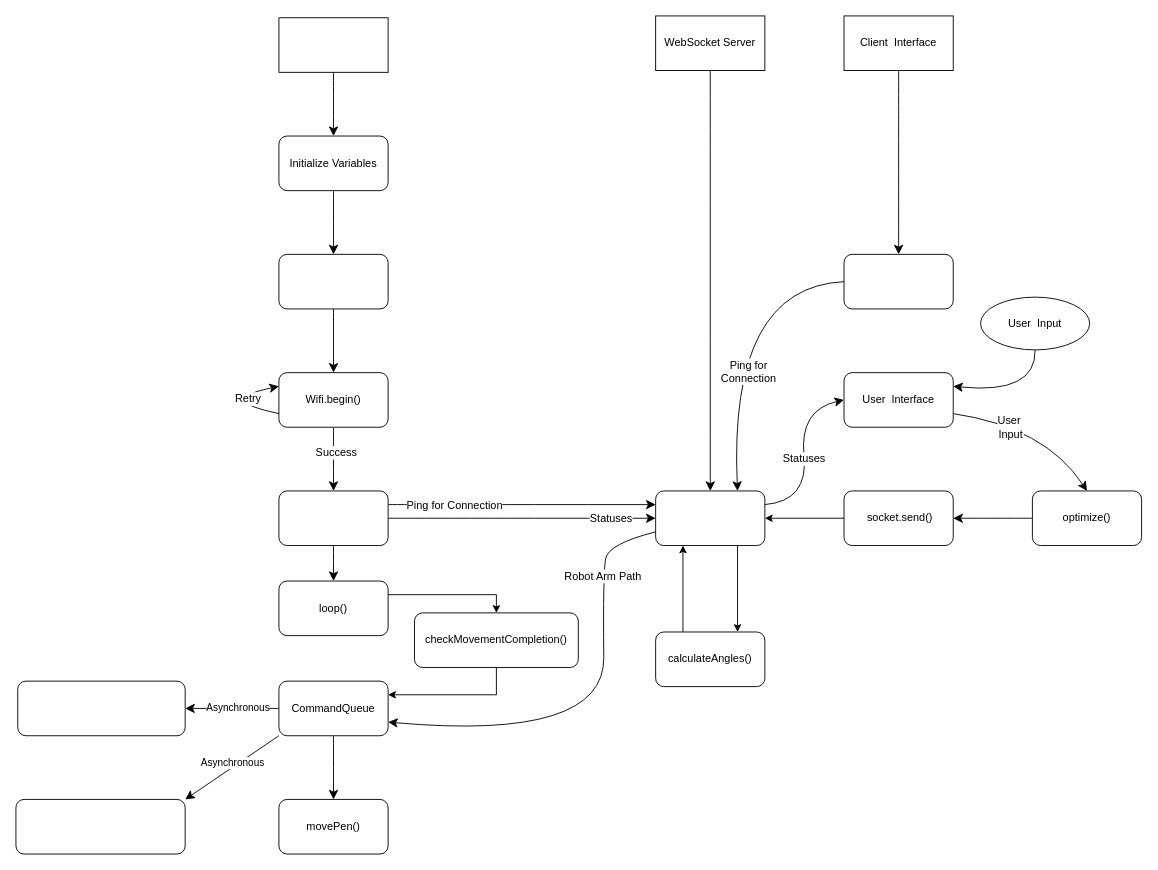
This 1158x870 diagram has some shape labels left out. Each missing label, with the centre of its shape:
"Connection" belongs at (710,518).
"ESP32S" belongs at (333,44).
"setup()" belongs at (333,281).
"updateServoNonBlocking()" belongs at (100,826).
"updateStepperNonBlocking()" belongs at (101,708).
"webSocketEvent()" belongs at (333,518).
"ws.onopen()" belongs at (898,281).
